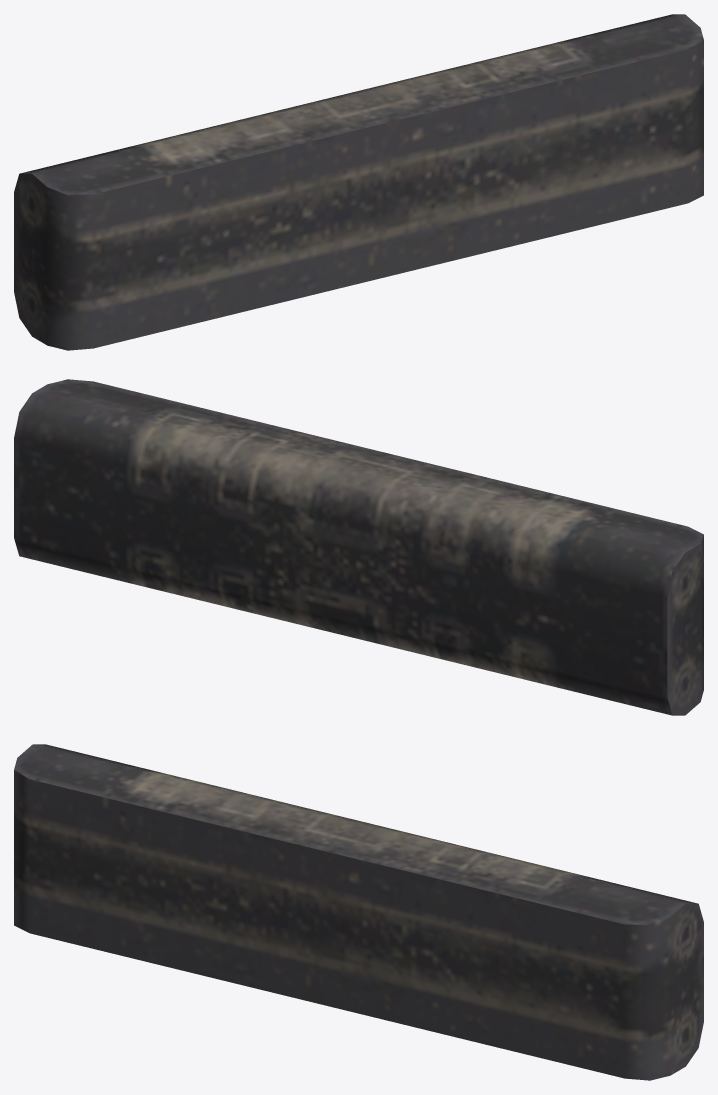
3 views of the same model, one above another, from view 1: azimuth 30°, elevation 25°; view 2: azimuth 150°, elevation 25°; view 3: azimuth 330°, elevation 25° (orthographic).
Parts seen in each view (by area): view 1: set_0_group_0; view 2: set_0_group_0; view 3: set_0_group_0.
Part boxes in pixels (bbox=[...]): set_0_group_0: bbox=[14, 14, 703, 350]; set_0_group_0: bbox=[14, 379, 703, 715]; set_0_group_0: bbox=[14, 744, 703, 1080].
Bounding box in the file's own units: 0.271 × 0.0645 × 0.036.
1 material, 1 textured.
